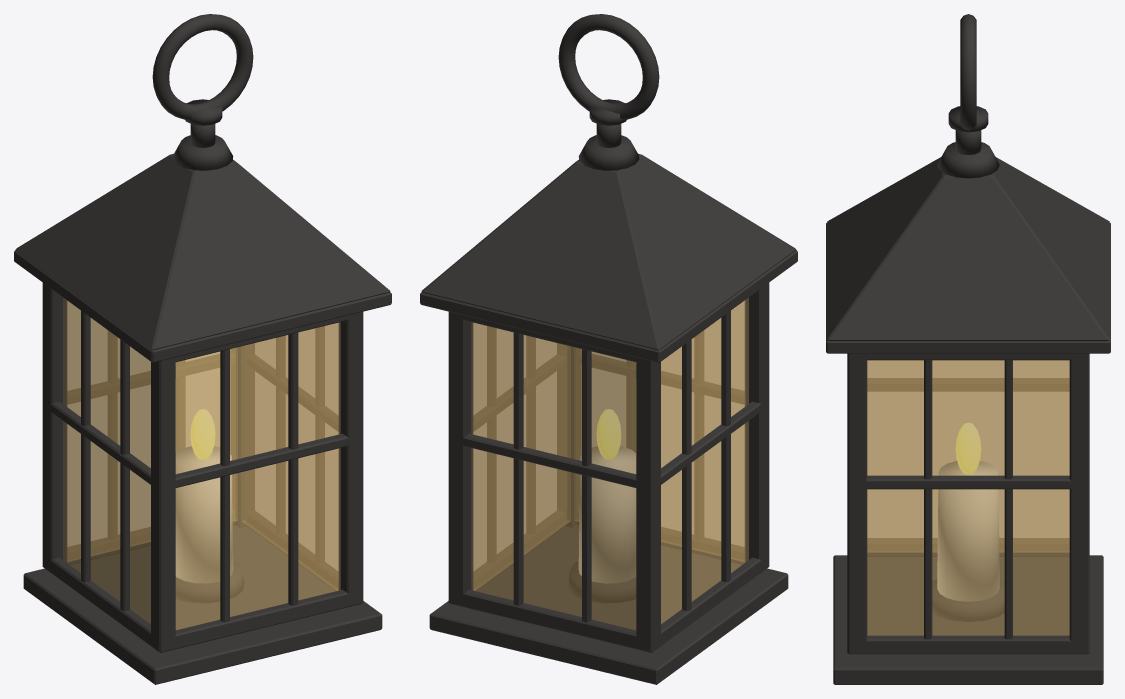
The model's file is iron-lantern_final.glb.
The picture shows the model from 3 angles, left to right: view 1: azimuth 30°, elevation 25°; view 2: azimuth 150°, elevation 25°; view 3: azimuth 270°, elevation 25°; orthographic projection. The views are drawn at different scales.
Parts seen in each view (by area): view 1: SM_IronLantern_Frame, SM_IronLantern_Glass, SM_IronLantern_Roof, SM_IronLantern_Base, SM_IronLantern_Candle, SM_IronLantern_Ring, SM_IronLantern_Cap, SM_IronLantern_CandleHolder, SM_IronLantern_Flame; view 2: SM_IronLantern_Frame, SM_IronLantern_Glass, SM_IronLantern_Roof, SM_IronLantern_Base, SM_IronLantern_Candle, SM_IronLantern_Ring, SM_IronLantern_Cap, SM_IronLantern_CandleHolder, SM_IronLantern_Flame; view 3: SM_IronLantern_Glass, SM_IronLantern_Roof, SM_IronLantern_Frame, SM_IronLantern_Base, SM_IronLantern_Candle, SM_IronLantern_Cap, SM_IronLantern_Ring, SM_IronLantern_CandleHolder, SM_IronLantern_Flame.
Part boxes in pixels (<box>): SM_IronLantern_Frame: <box>42,283,363,652</box>; SM_IronLantern_Glass: <box>63,298,340,629</box>; SM_IronLantern_Roof: <box>14,153,391,362</box>; SM_IronLantern_Base: <box>23,525,382,684</box>; SM_IronLantern_Candle: <box>176,446,232,583</box>; SM_IronLantern_Ring: <box>152,14,253,119</box>; SM_IronLantern_Cap: <box>172,99,233,170</box>; SM_IronLantern_CandleHolder: <box>176,561,243,602</box>; SM_IronLantern_Flame: <box>191,409,214,459</box>; SM_IronLantern_Frame: <box>448,283,769,652</box>; SM_IronLantern_Glass: <box>471,298,748,629</box>; SM_IronLantern_Roof: <box>420,153,797,362</box>; SM_IronLantern_Base: <box>429,525,788,684</box>; SM_IronLantern_Candle: <box>579,446,635,583</box>; SM_IronLantern_Ring: <box>558,14,659,119</box>; SM_IronLantern_Cap: <box>578,99,639,170</box>; SM_IronLantern_CandleHolder: <box>568,561,635,602</box>; SM_IronLantern_Flame: <box>597,409,620,459</box>; SM_IronLantern_Glass: <box>867,360,1069,635</box>; SM_IronLantern_Roof: <box>826,157,1110,353</box>; SM_IronLantern_Frame: <box>847,353,1089,654</box>; SM_IronLantern_Base: <box>833,555,1103,684</box>; SM_IronLantern_Candle: <box>937,461,999,601</box>; SM_IronLantern_Cap: <box>937,106,999,178</box>; SM_IronLantern_Ring: <box>960,14,976,130</box>; SM_IronLantern_CandleHolder: <box>932,579,1004,621</box>; SM_IronLantern_Flame: <box>956,423,980,474</box>.
Size of the model in its own units: 0.2 by 0.478 by 0.2.
